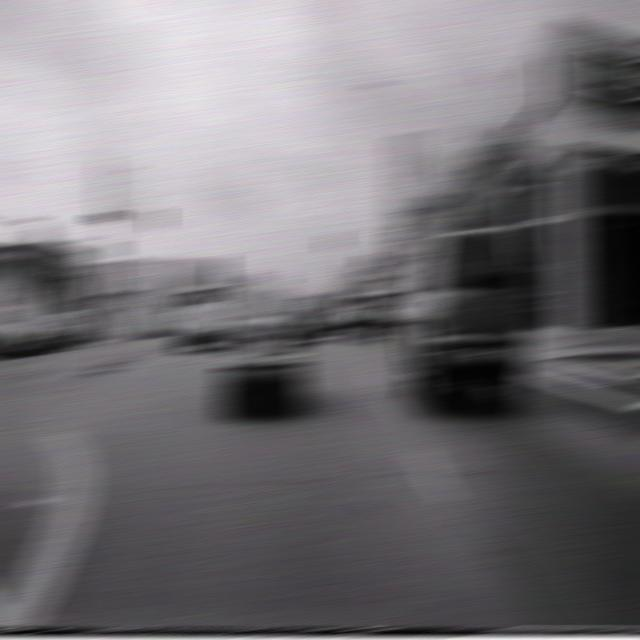noLeftTurn: (86, 294, 120, 339)
